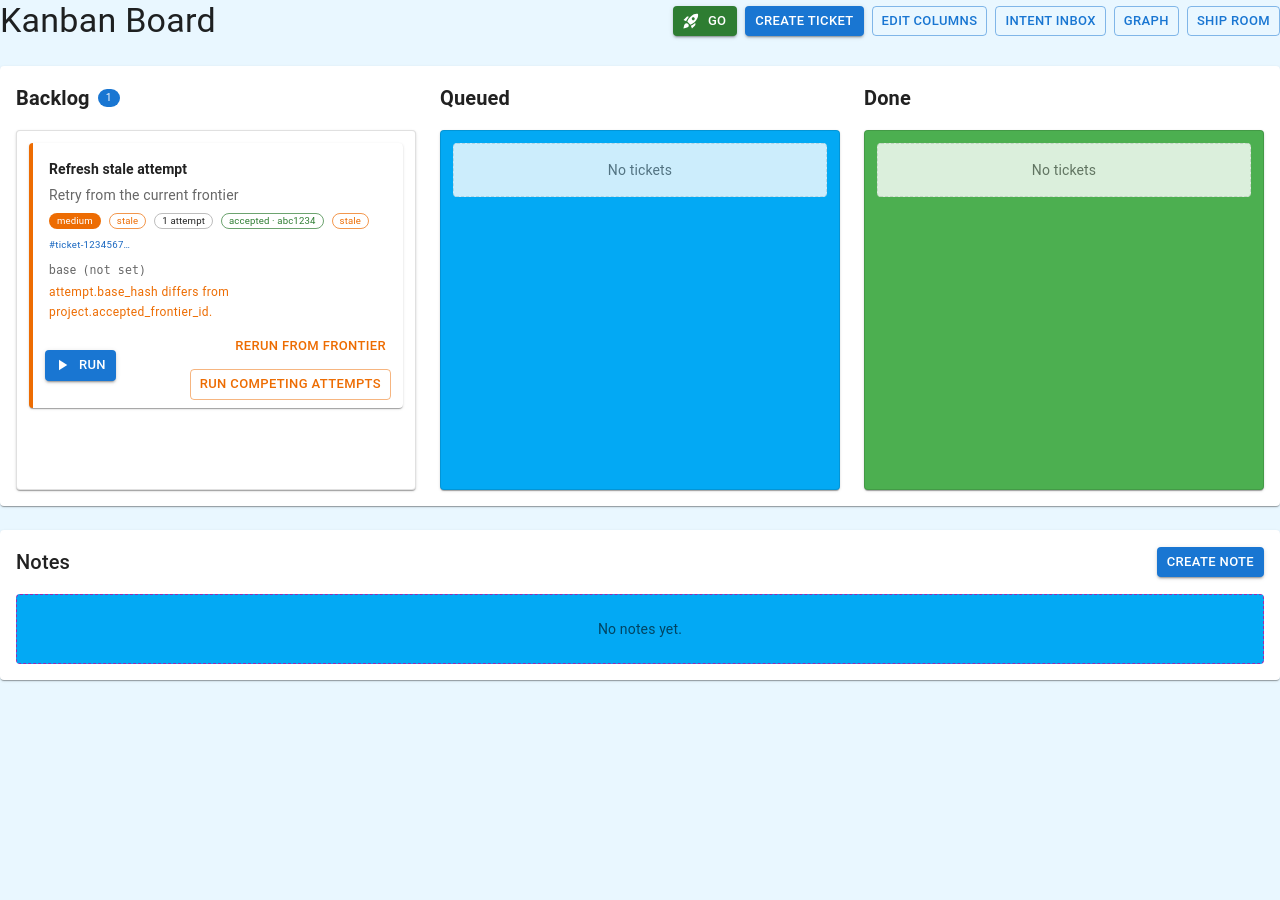
Test: competing attempts dialog surfaces rerun failures
Expected: the heading "Refresh stale attempt" is shown, [49, 161, 187, 177]
What coordinates should you click on to do the following:
click the button "Run competing attempts"
I would click on:
 (290, 385)
Its box is [190, 369, 391, 400].
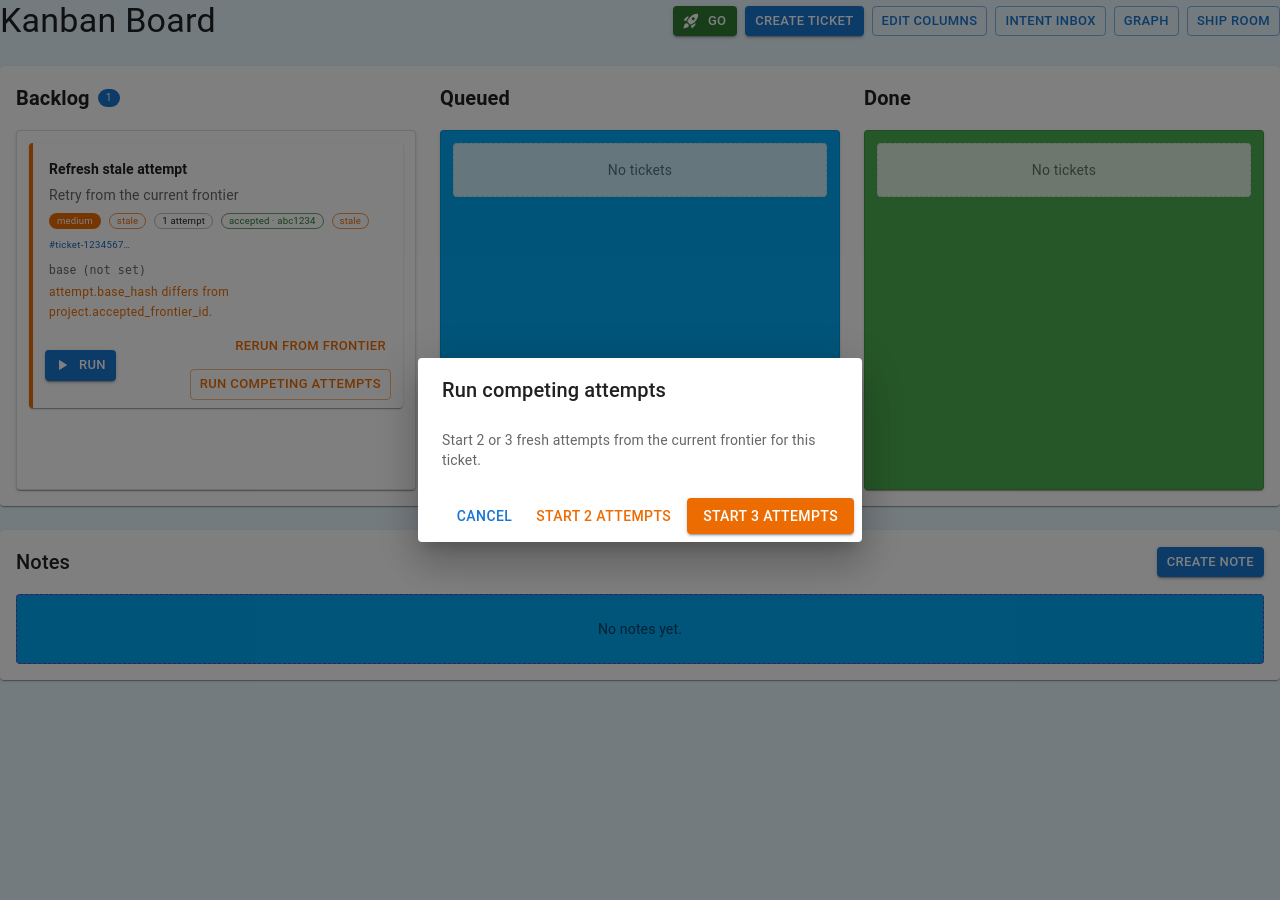
What coordinates should you click on to do the following:
click the button "Start 2 attempts"
I would click on:
 (604, 516)
Its box is [528, 498, 679, 534].
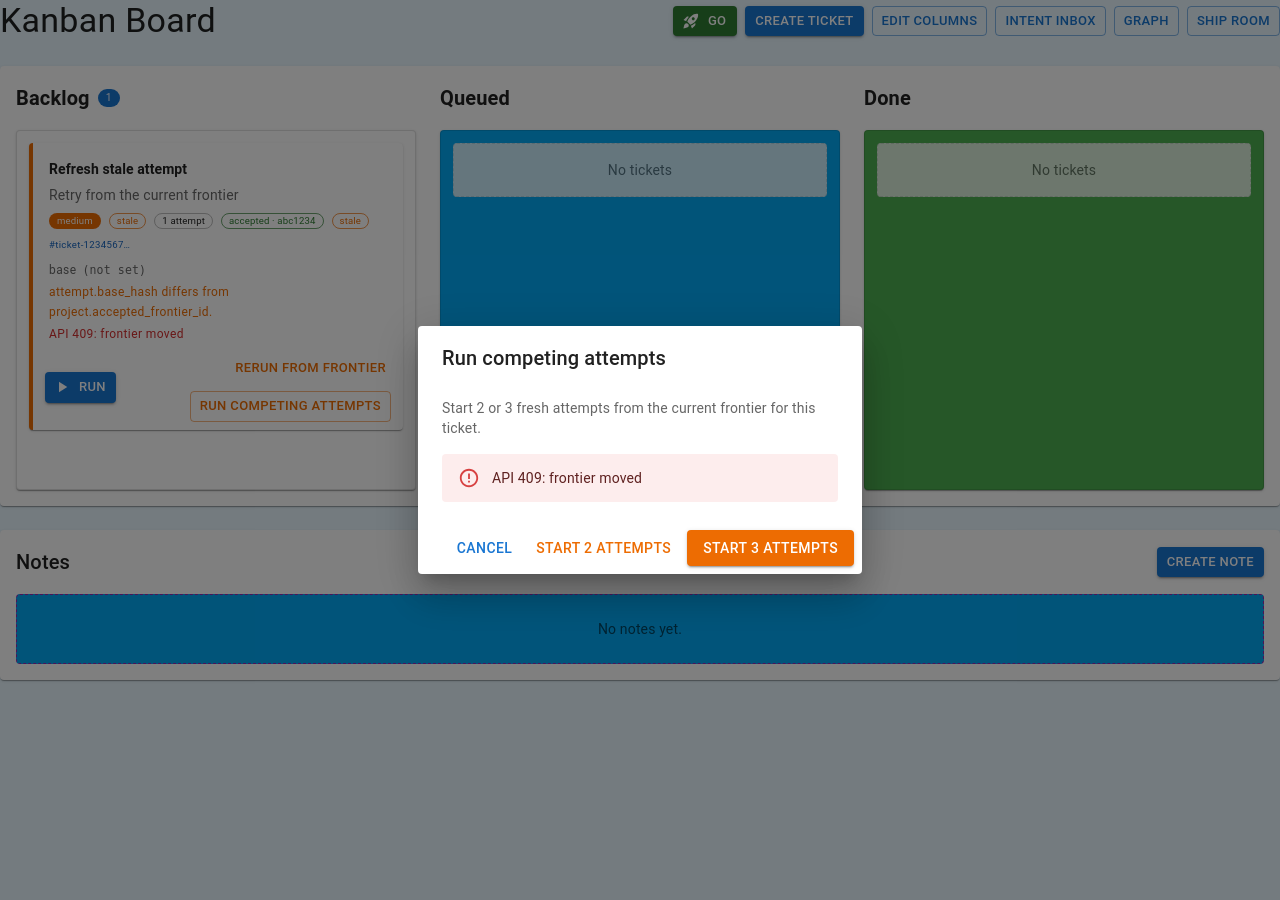
Expected: the message reads "API 409: frontier moved", [492, 470, 642, 486]
